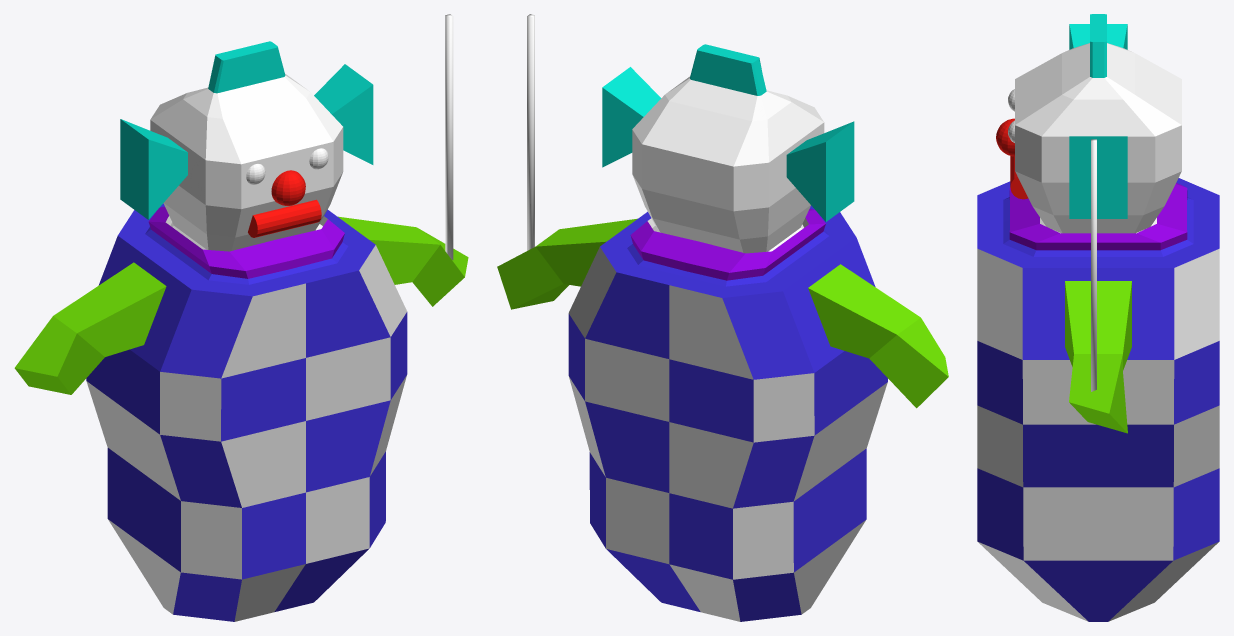
Rendered from BalloonClown.fbx.
3 renders of one model, left to right at view 1: azimuth 30°, elevation 25°; view 2: azimuth 150°, elevation 25°; view 3: azimuth 270°, elevation 25°, orthographic. The views are drawn at different scales.
Visible parts, largest first — view 1: ClownBody; view 2: ClownBody; view 3: ClownBody.
Boxes of the visible parts, bbox=[...] form: ClownBody: bbox=[14, 14, 468, 621]; ClownBody: bbox=[497, 14, 948, 621]; ClownBody: bbox=[977, 14, 1219, 621].
Size of the model in its own units: 443 by 200 by 505.
